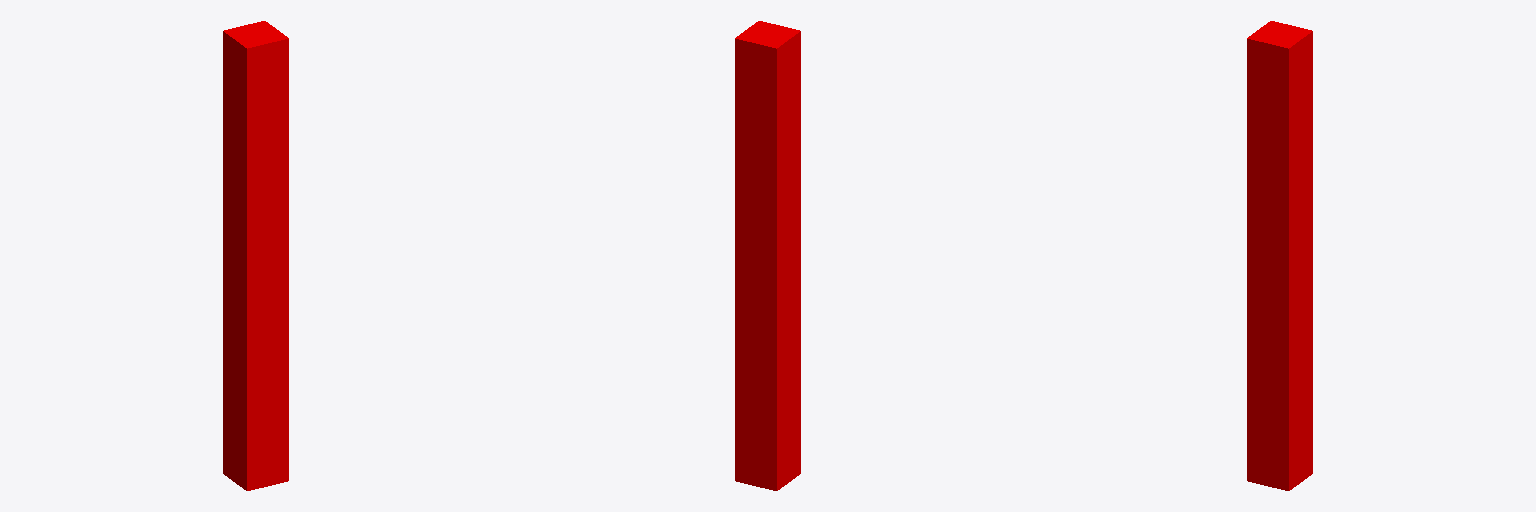
The robot description file, URDF, robot "custom_cube":
<?xml version = "1.0"?>

<robot name="custom_cube" xmlns:xacro="http://www.ros.org/wiki/xacro">

    <link name="red_cuboid">
        <visual>
            <geometry>
                <box size="0.02 0.02 0.2"/>
            </geometry>
            <material name="red">
                <color rgba="1.0 0.0 0.0 1.0"/>
            </material>
        </visual>
        <collision>
            <geometry>
                <box size="0.02 0.02 0.2"/>
            </geometry>
        </collision>
        <inertial>
            <mass value="0.1"/>
            <origin xyz="0 0 0" rpy="0 0 0"/>
            <inertia ixx="0.00033333" ixy="0.0" ixz="0.0" iyy="0.00033333" iyz="0.0" izz="0.00000667"/>
        </inertial>
    </link>
    <gazebo reference="red_cuboid" >
        <material>Gazebo/Red</material>
    </gazebo>

</robot>

--- Facts derived from the render (not from the file) ---
3 views of the same robot in one strip: view 1: azimuth 30°, elevation 25°; view 2: azimuth 150°, elevation 25°; view 3: azimuth 330°, elevation 25° (orthographic).
Model custom_cube with 1 links and 0 joints (none), rooted at red_cuboid, posed every joint at zero.
Links seen in each view (by area): view 1: red_cuboid; view 2: red_cuboid; view 3: red_cuboid.
Boxes of the visible links, left/top/right/bottom form: red_cuboid: left=223, top=21, right=288, bottom=490; red_cuboid: left=735, top=21, right=800, bottom=490; red_cuboid: left=1247, top=21, right=1312, bottom=490.
Size in the robot's own frame: 0.02 by 0.02 by 0.2 metres.
Geometry: primitives only (box / cylinder / sphere), no mesh files.